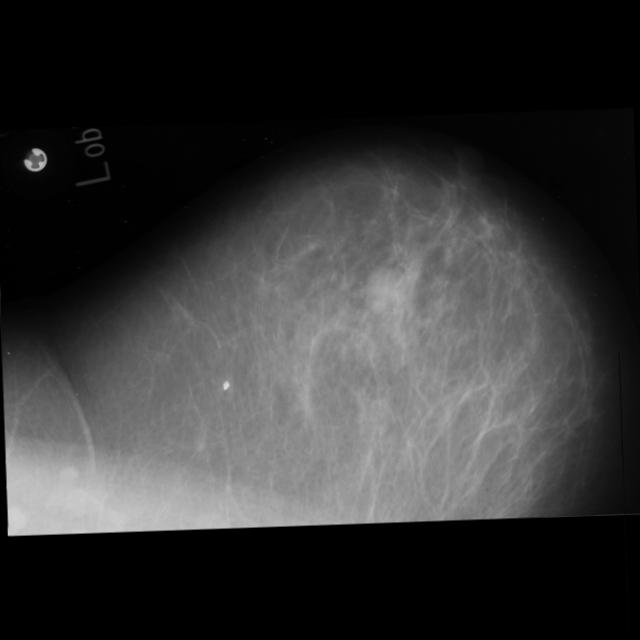CIRC: (0, 52, 412, 272)
